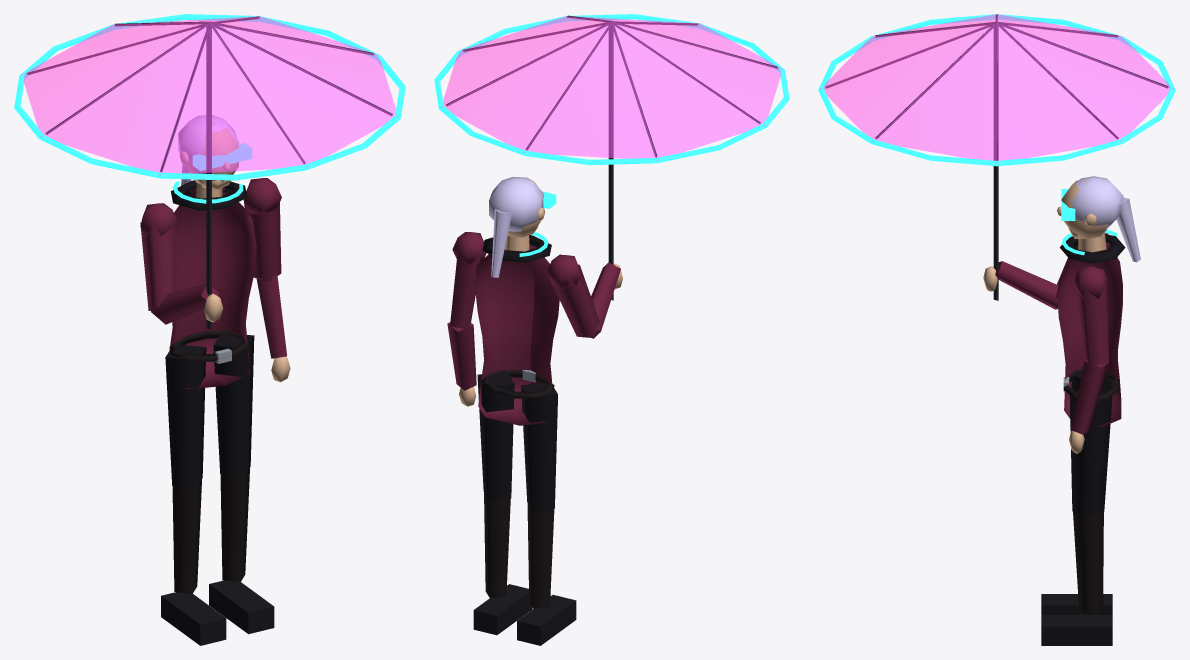
The model's file is person_visor_lo.glb.
The picture shows the model from 3 angles, left to right: view 1: azimuth 30°, elevation 25°; view 2: azimuth 150°, elevation 25°; view 3: azimuth 270°, elevation 25°; orthographic projection. The views are drawn at different scales.
Visible parts, largest first — view 1: umbrella, cloth_a (×3), cloth_b (×3), neon_cyan (×2), leather (×3), metal_dark, shoe (×2), skin, hair; view 2: umbrella, cloth_a (×3), cloth_b (×3), leather (×3), neon_cyan, metal_dark, shoe (×2), hair, skin; view 3: umbrella, cloth_a (×3), neon_cyan, cloth_b (×2), metal_dark, shoe (×2), leather, hair, skin.
Boxes of the visible parts, <box> form: umbrella: <box>21,16,398,175</box>; cloth_a (×3): <box>140,178,286,389</box>; cloth_b (×3): <box>165,180,254,487</box>; neon_cyan (×2): <box>14,14,405,203</box>; leather (×3): <box>169,330,250,594</box>; metal_dark: <box>27,16,392,329</box>; shoe (×2): <box>161,580,274,645</box>; skin: <box>180,121,239,198</box>; hair: <box>178,115,238,185</box>; umbrella: <box>441,16,782,160</box>; cloth_a (×3): <box>447,232,620,425</box>; cloth_b (×3): <box>477,235,557,511</box>; leather (×3): <box>481,370,554,608</box>; neon_cyan: <box>434,14,789,165</box>; metal_dark: <box>446,15,777,300</box>; shoe (×2): <box>473,584,576,645</box>; hair: <box>489,177,543,277</box>; skin: <box>505,177,544,251</box>; umbrella: <box>820,14,1173,163</box>; cloth_a (×3): <box>995,233,1122,434</box>; neon_cyan: <box>818,14,1175,166</box>; cloth_b (×2): <box>1060,234,1125,518</box>; metal_dark: <box>825,14,1168,300</box>; shoe (×2): <box>1041,594,1112,645</box>; leather: <box>1073,511,1103,614</box>; hair: <box>1071,176,1140,262</box>; skin: <box>1057,179,1107,252</box>.
Size of the model in its own units: 1.25 by 2.26 by 1.25.
